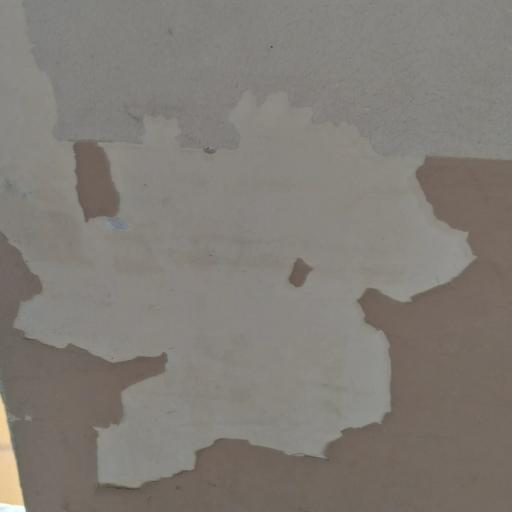peeling: (0, 0, 500, 497)
